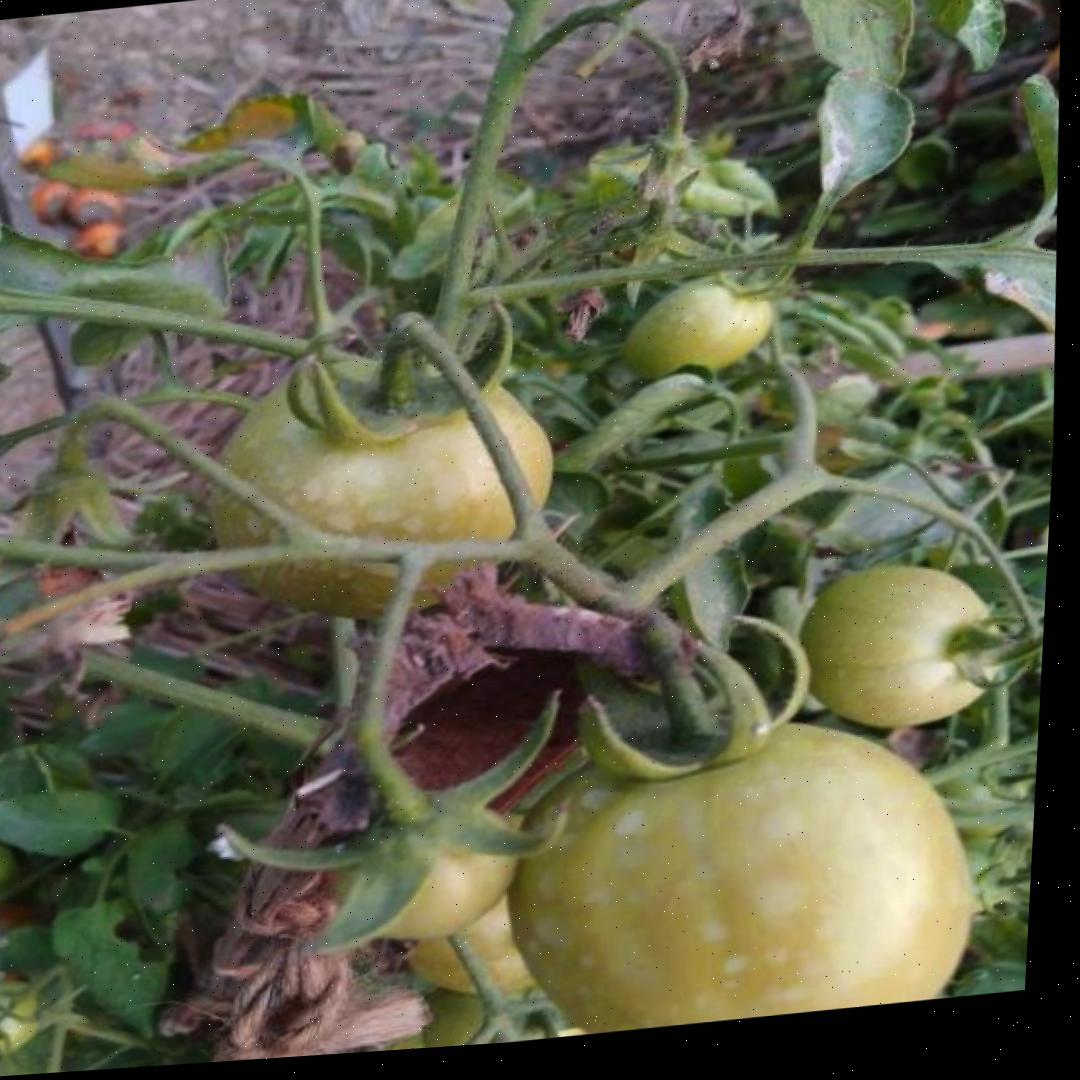mentah: (493, 688, 984, 1043), (197, 334, 567, 630), (792, 547, 1013, 732), (324, 791, 524, 947), (614, 264, 780, 384)
